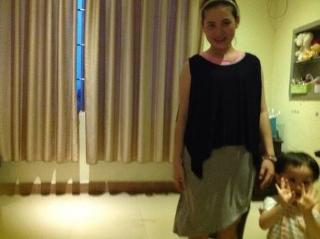short sleeve top: (259, 194, 319, 238)
vest: (173, 52, 257, 239)
vest dress: (176, 52, 266, 179)
